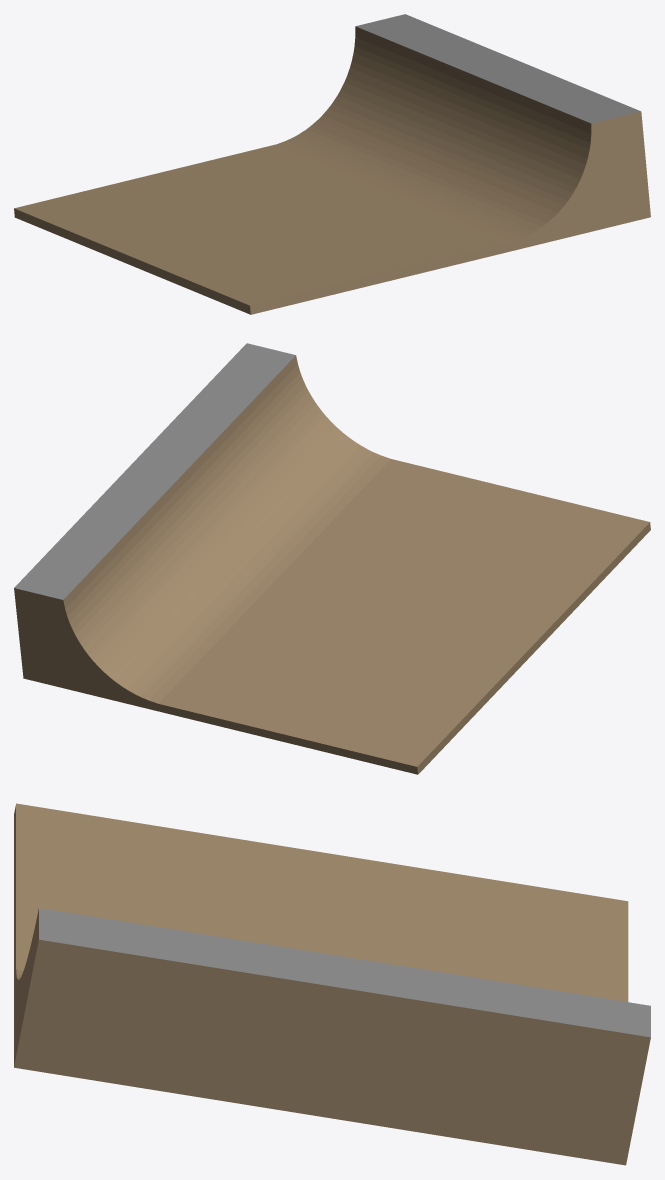
File: Rampa v2 collider.fbx
3 renders of one model, top to bottom at view 1: azimuth 30°, elevation 25°; view 2: azimuth 150°, elevation 25°; view 3: azimuth 270°, elevation 25°, orthographic. The views are drawn at different scales.
Visible parts, largest first — view 1: Rampa normal collider; view 2: Rampa normal collider; view 3: Rampa normal collider.
Boxes of the visible parts, x1,y1,x2,y2 form: Rampa normal collider: (14,14,650,314); Rampa normal collider: (14,343,650,774); Rampa normal collider: (14,803,650,1165).
Size of the model in its own units: 1828 by 761 by 1944.
